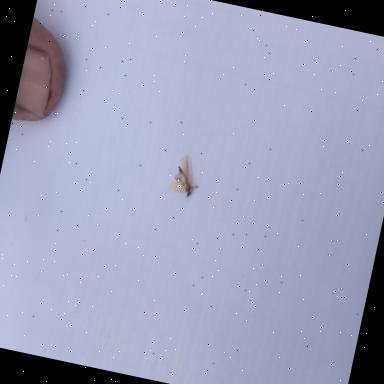pbw: (166, 152, 204, 198)
